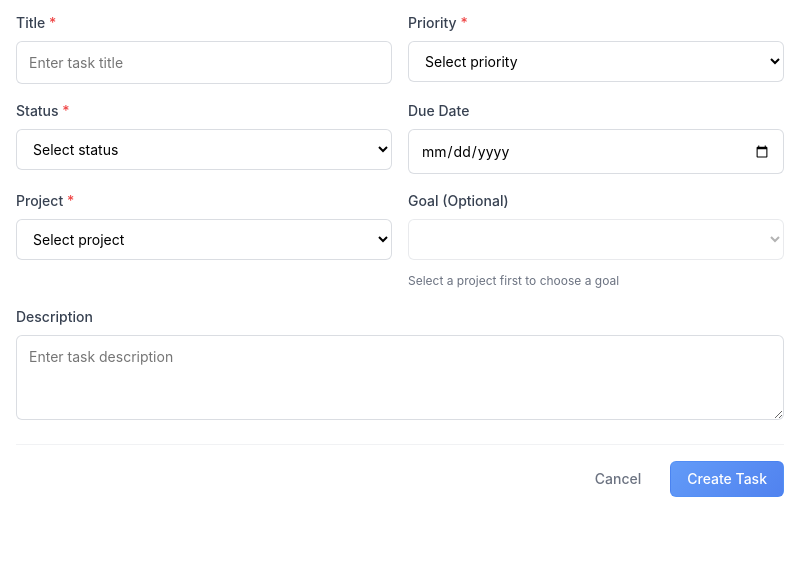
Test: TaskForm › validates required fields
Click the button "Create Task".
click(727, 479)  # box [670,461,784,497]
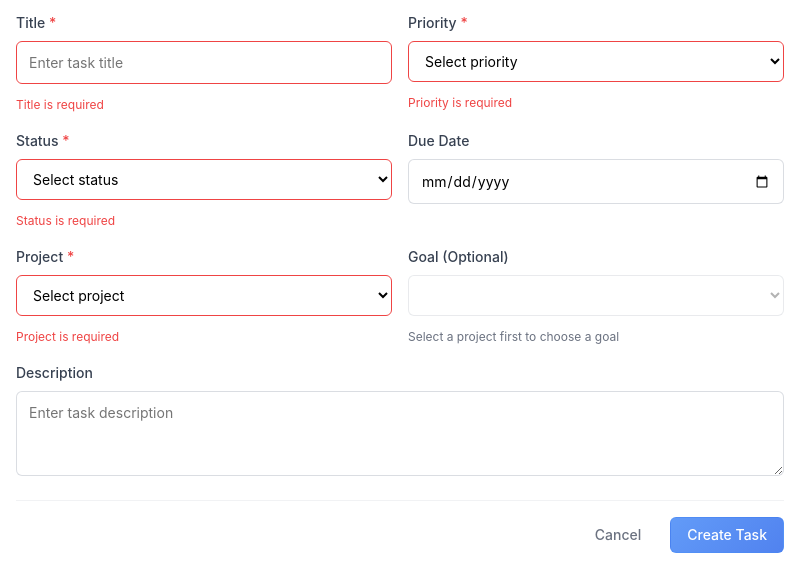
Expected: the text "Title is required" is shown, [16,97,104,112]
Expected: the text "Priority is required" is shown, [408,95,512,110]
Expected: the text "Status is required" is shown, [16,213,115,228]
